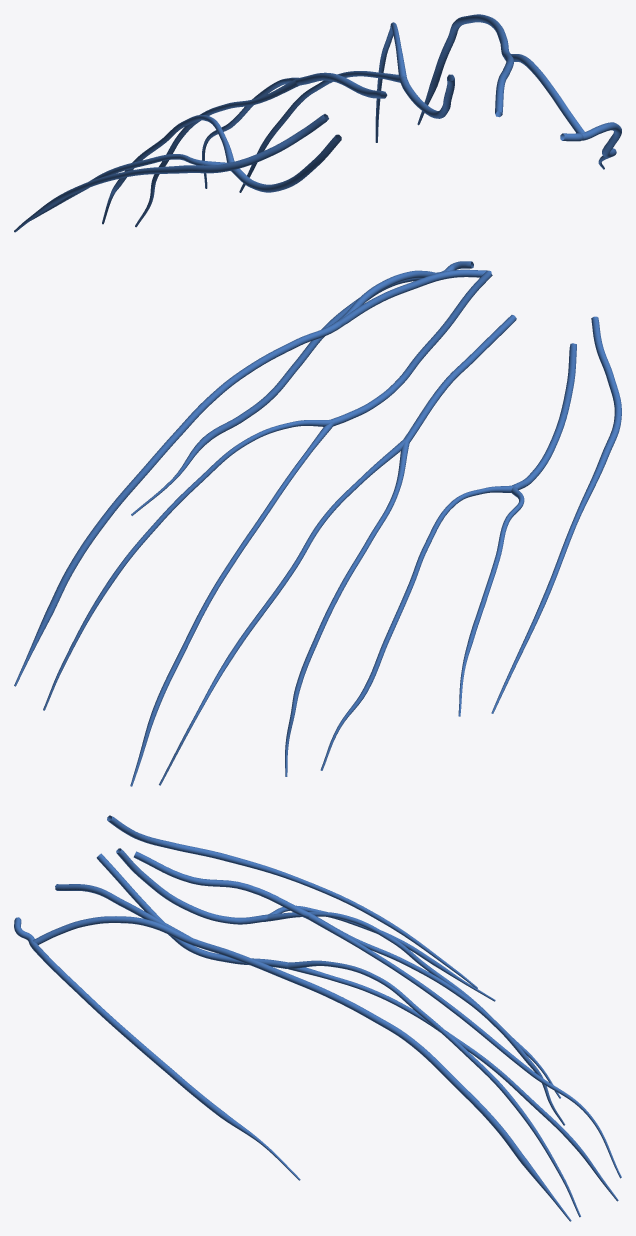
The picture shows the model from 3 angles, top to bottom: view 1: azimuth 30°, elevation 25°; view 2: azimuth 150°, elevation 25°; view 3: azimuth 270°, elevation 25°; orthographic projection. The views are drawn at different scales.
Parts seen in each view (by area): view 1: 左侧指掌侧静脉; view 2: 左侧指掌侧静脉; view 3: 左侧指掌侧静脉.
Boxes of the visible parts, x1=… form: 左侧指掌侧静脉: x1=14, y1=14, x2=621, y2=232; 左侧指掌侧静脉: x1=14, y1=261, x2=621, y2=786; 左侧指掌侧静脉: x1=14, y1=815, x2=621, y2=1221.
Size of the model in its own units: 0.1472 by 0.1019 by 0.1806.
